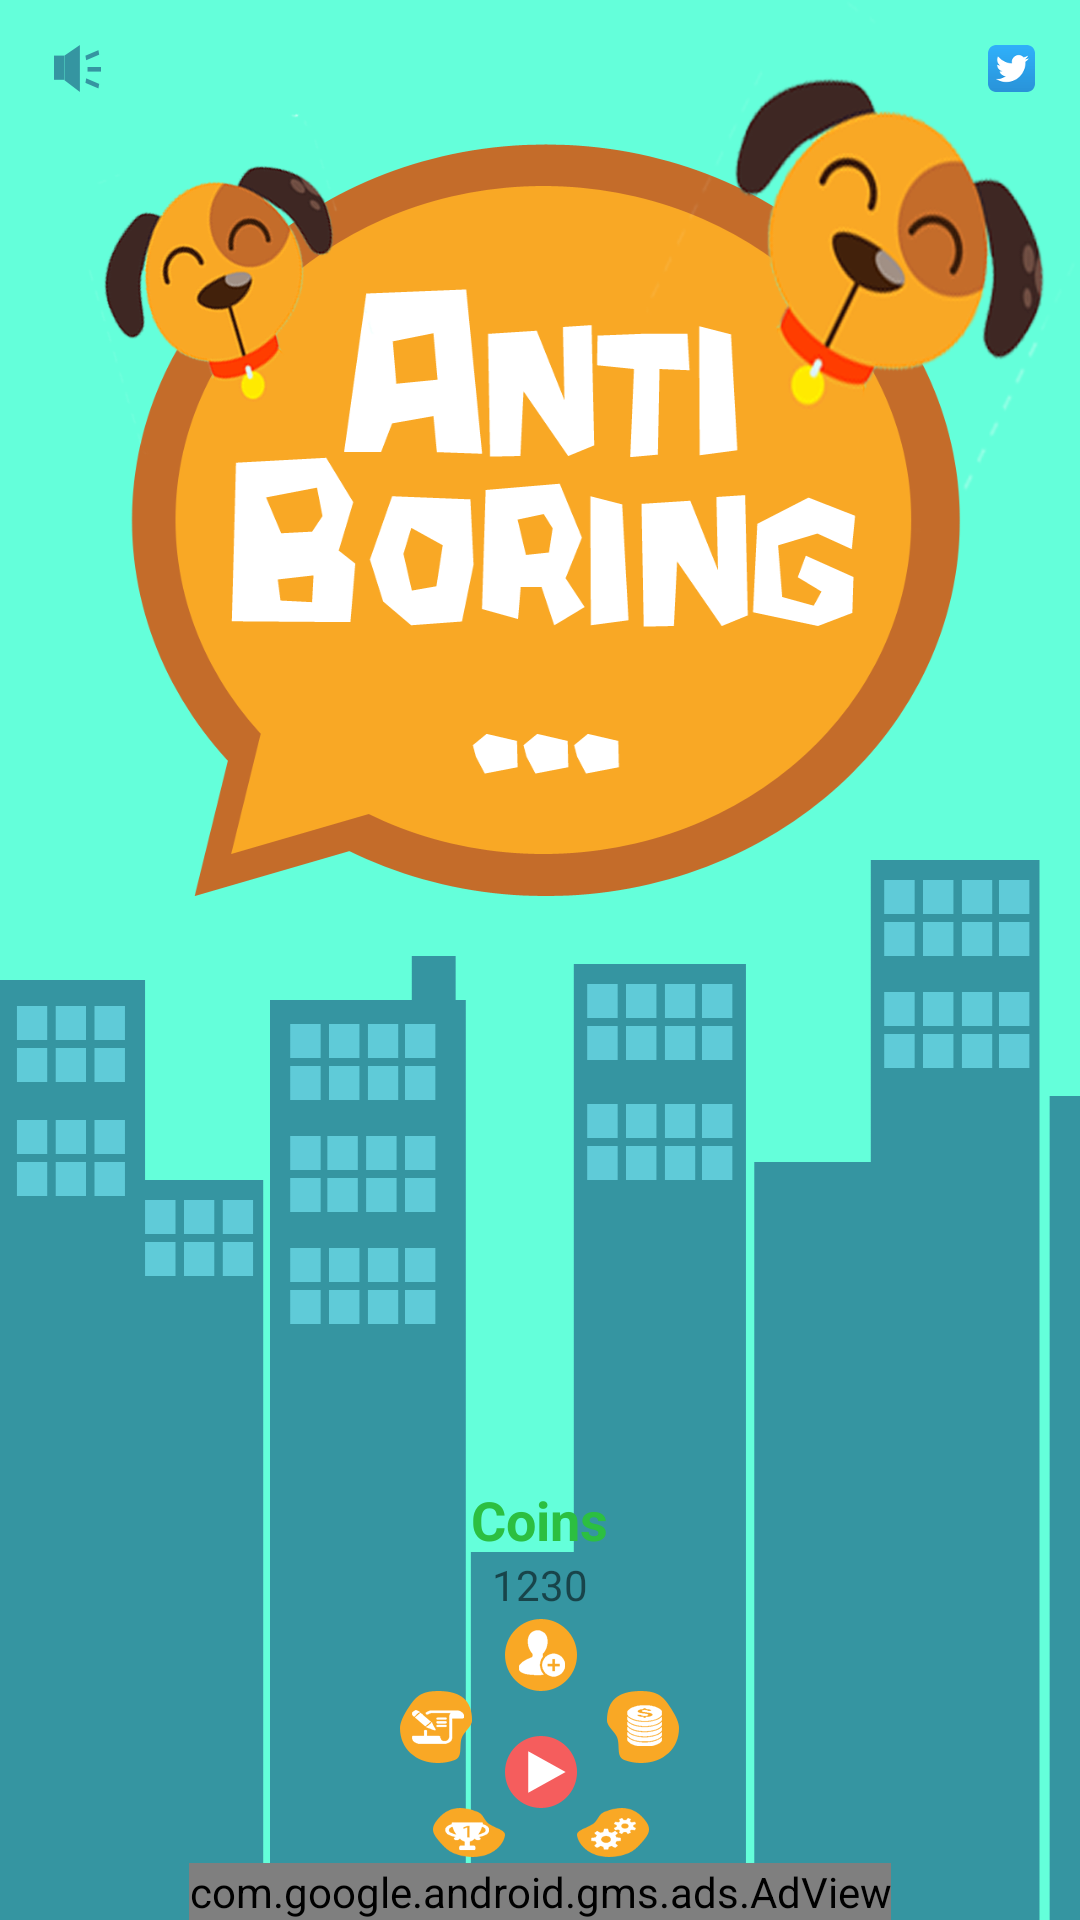

Where icons sit on this 1080px×1920px app screen, as (x1, y1, x2, y2):
adduser: (505, 1619, 577, 1691)
form: (400, 1691, 472, 1763)
play: (505, 1736, 577, 1808)
rank: (433, 1808, 505, 1857)
setting: (577, 1808, 649, 1857)
sound: (54, 45, 101, 92)
